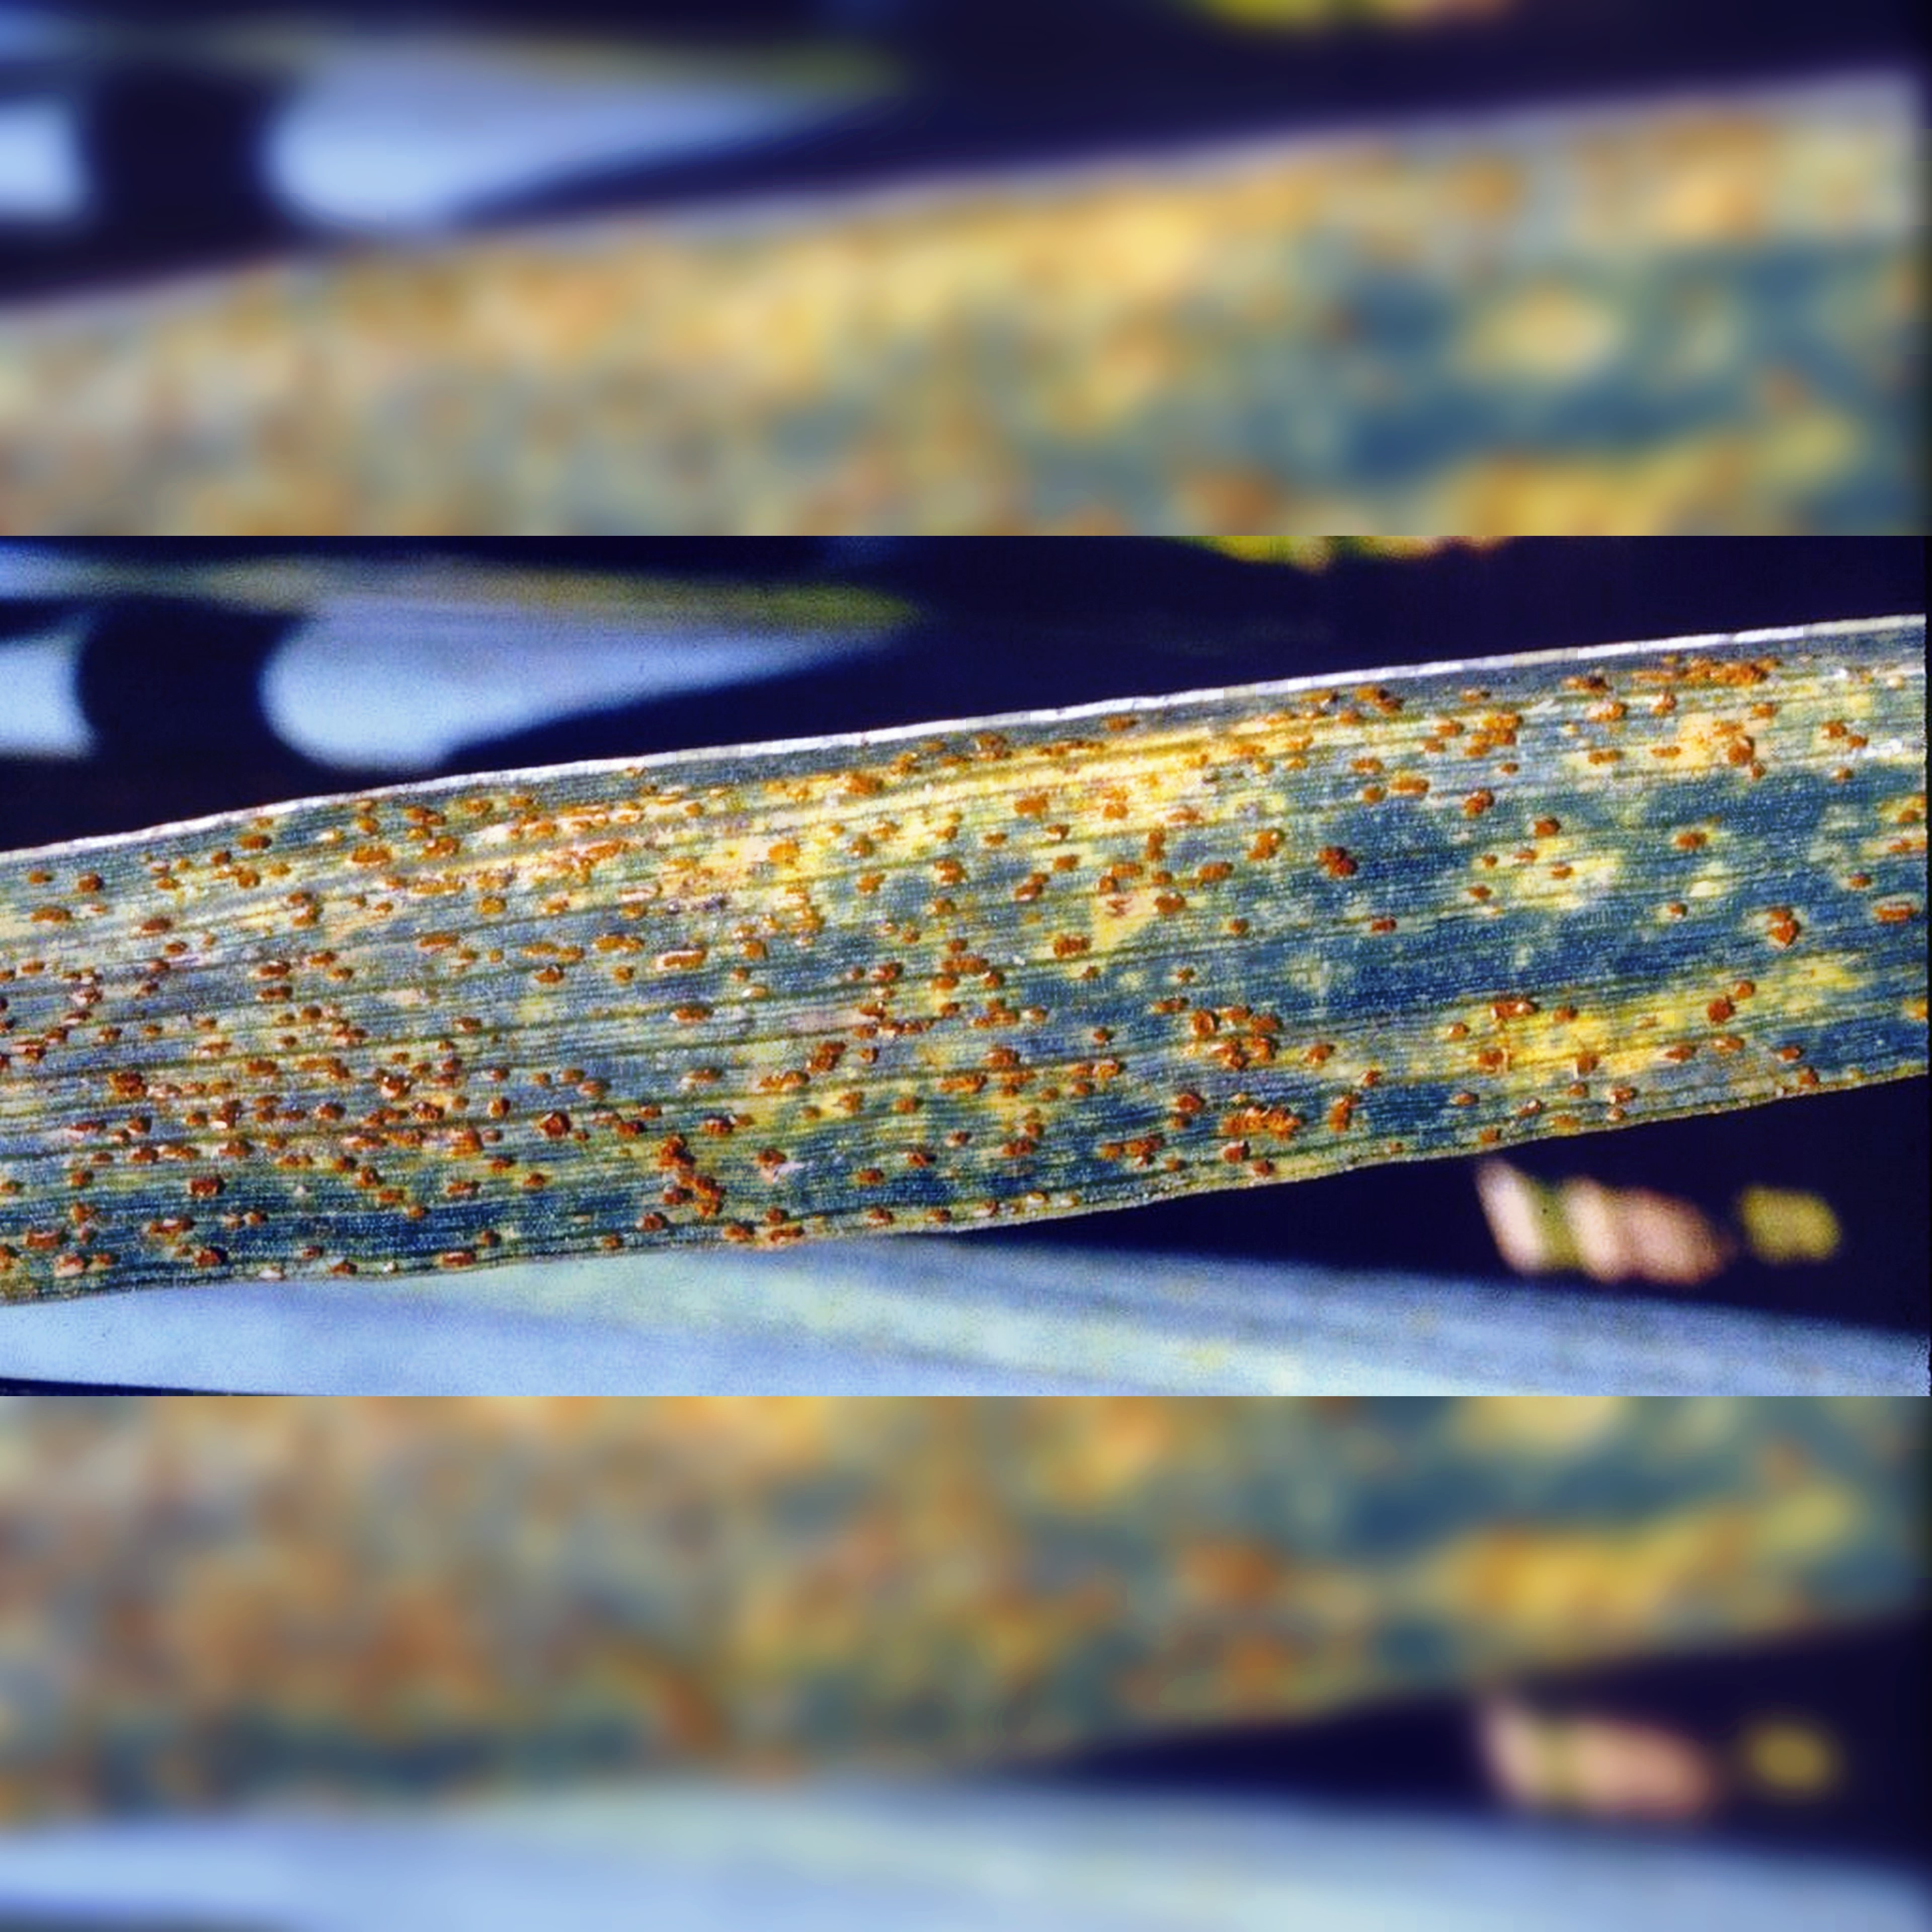Leaf Rust: (81, 584, 1810, 1306)
